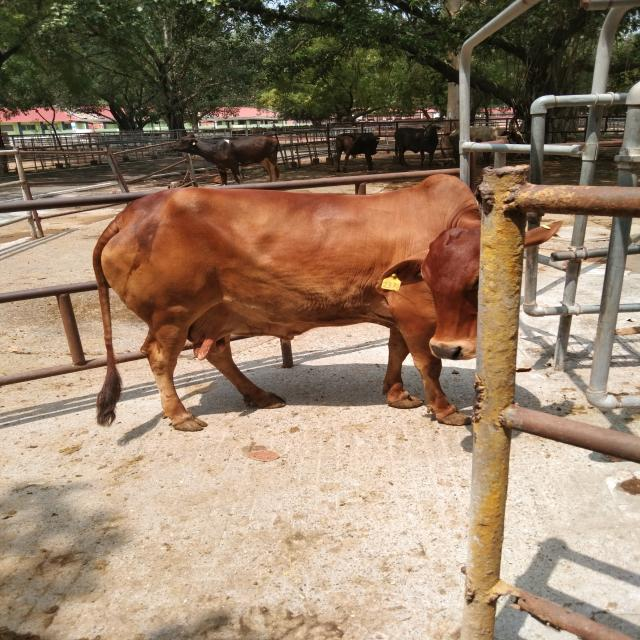1: (401, 173, 484, 191)
Hoof: (386, 391, 423, 409), (436, 410, 471, 426), (171, 416, 207, 431), (256, 393, 286, 409)
